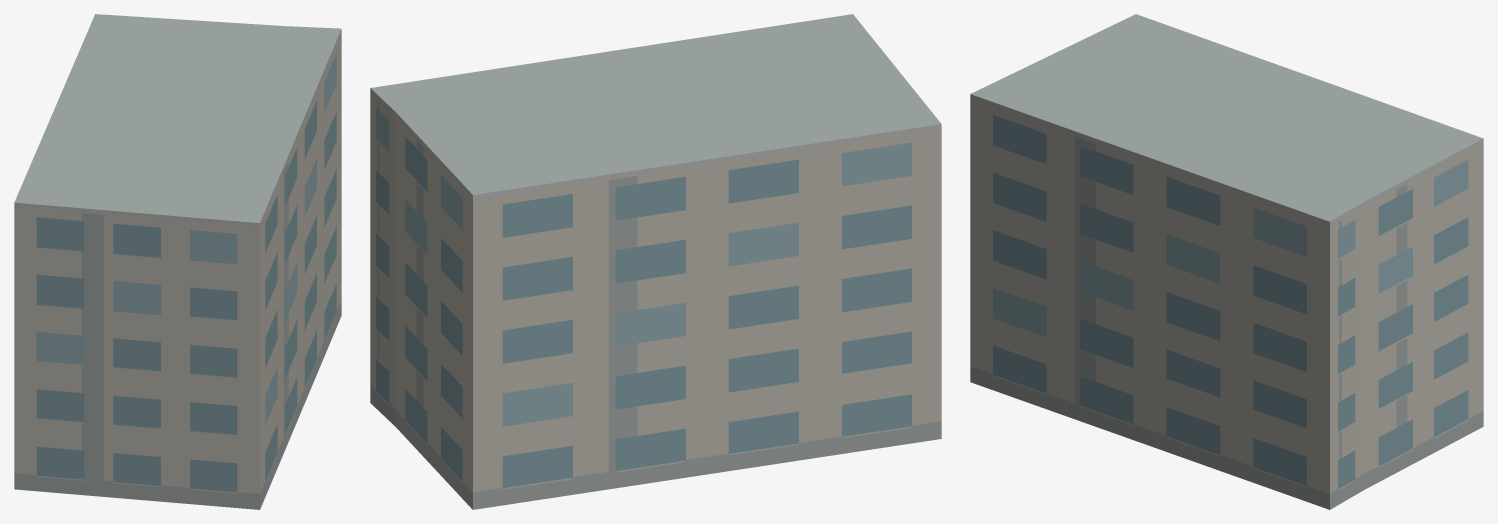
File: survey-upis-32705516.glb
3 renders of one model, left to right at view 1: azimuth 30°, elevation 25°; view 2: azimuth 150°, elevation 25°; view 3: azimuth 270°, elevation 25°, orthographic. The views are drawn at different scales.
Parts seen in each view (by area): view 1: survey-upis-32705516.tmp; view 2: survey-upis-32705516.tmp; view 3: survey-upis-32705516.tmp.
Part boxes in pixels (x1,y1,x2,y2): survey-upis-32705516.tmp: (14,14,341,509); survey-upis-32705516.tmp: (370,14,941,509); survey-upis-32705516.tmp: (970,14,1483,509).
Size of the model in its own units: 21.35 by 13.8 by 22.29.
